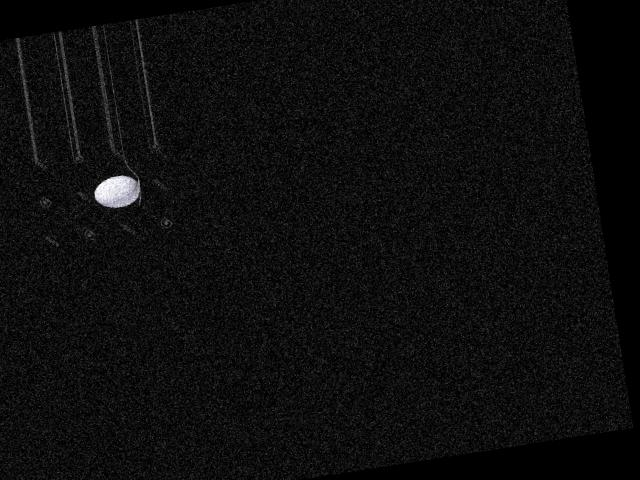egg: (92, 172, 142, 210)
